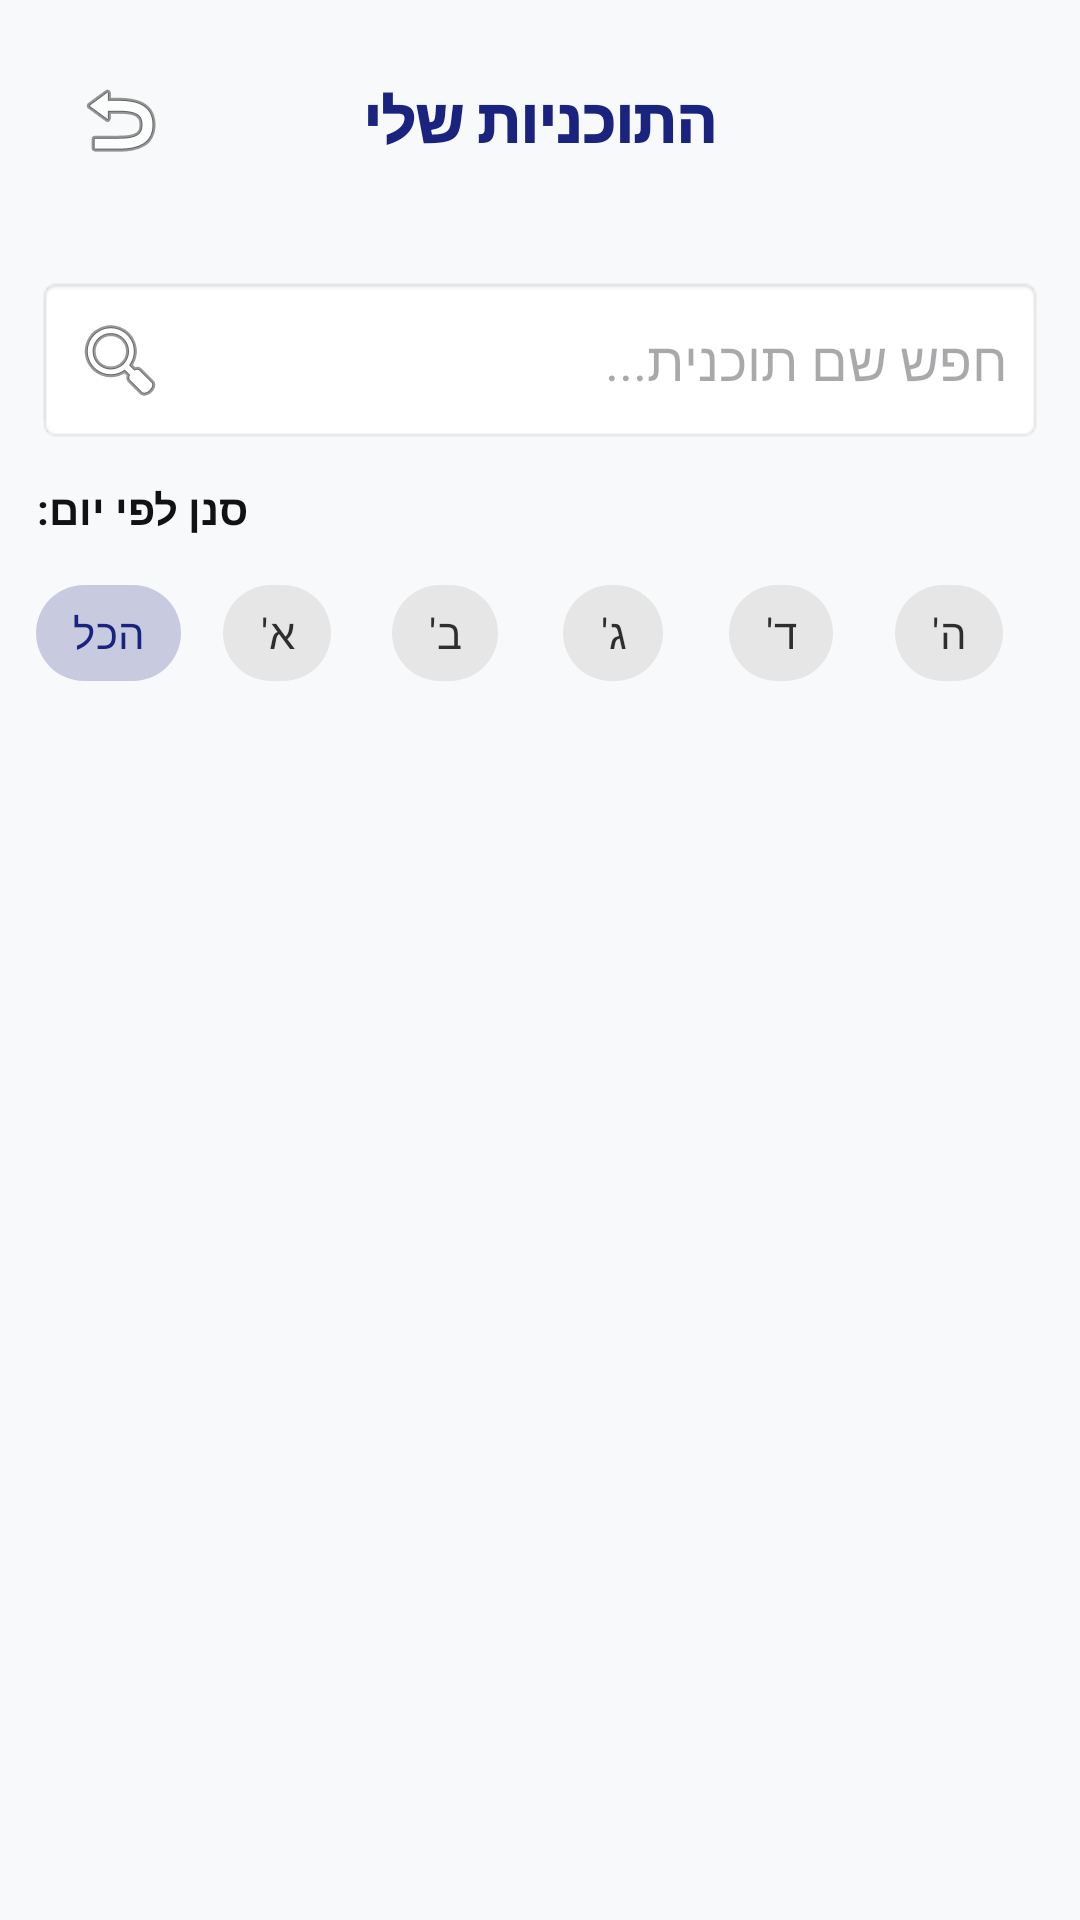

Point at icon controls on the screen. Image size 1080*1920, points as [x,y].
חזרה: [121,120]
